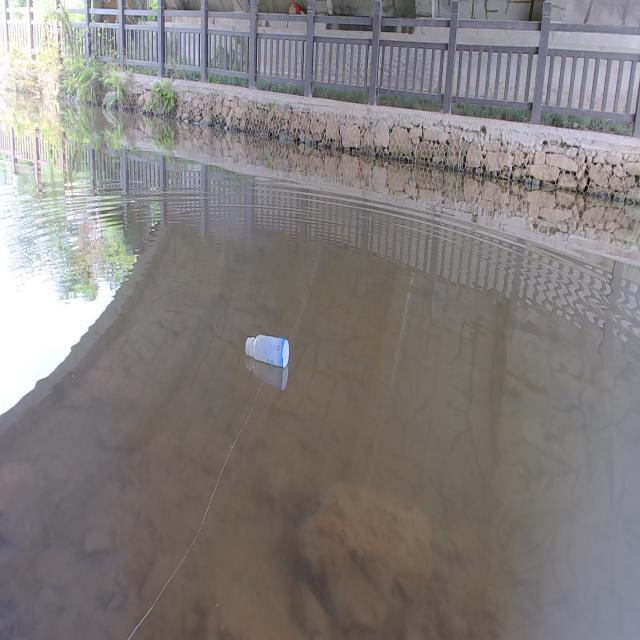bottle: (234, 314, 304, 384)
